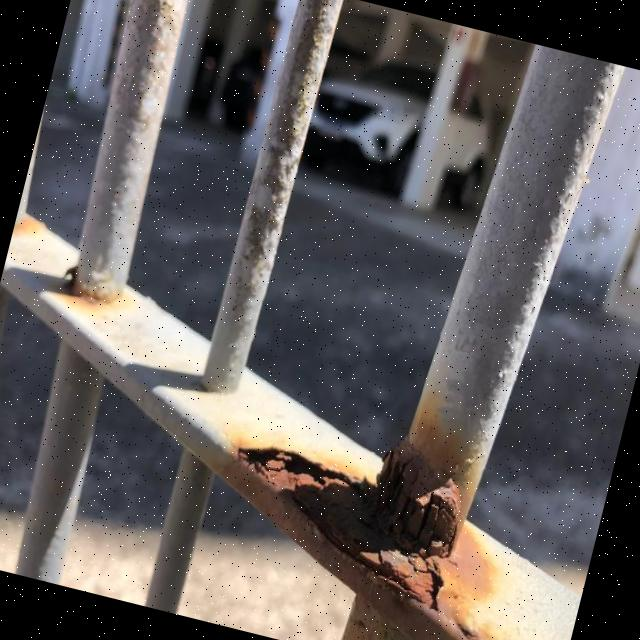Corrosion: (210, 403, 480, 612), (358, 432, 476, 563)
